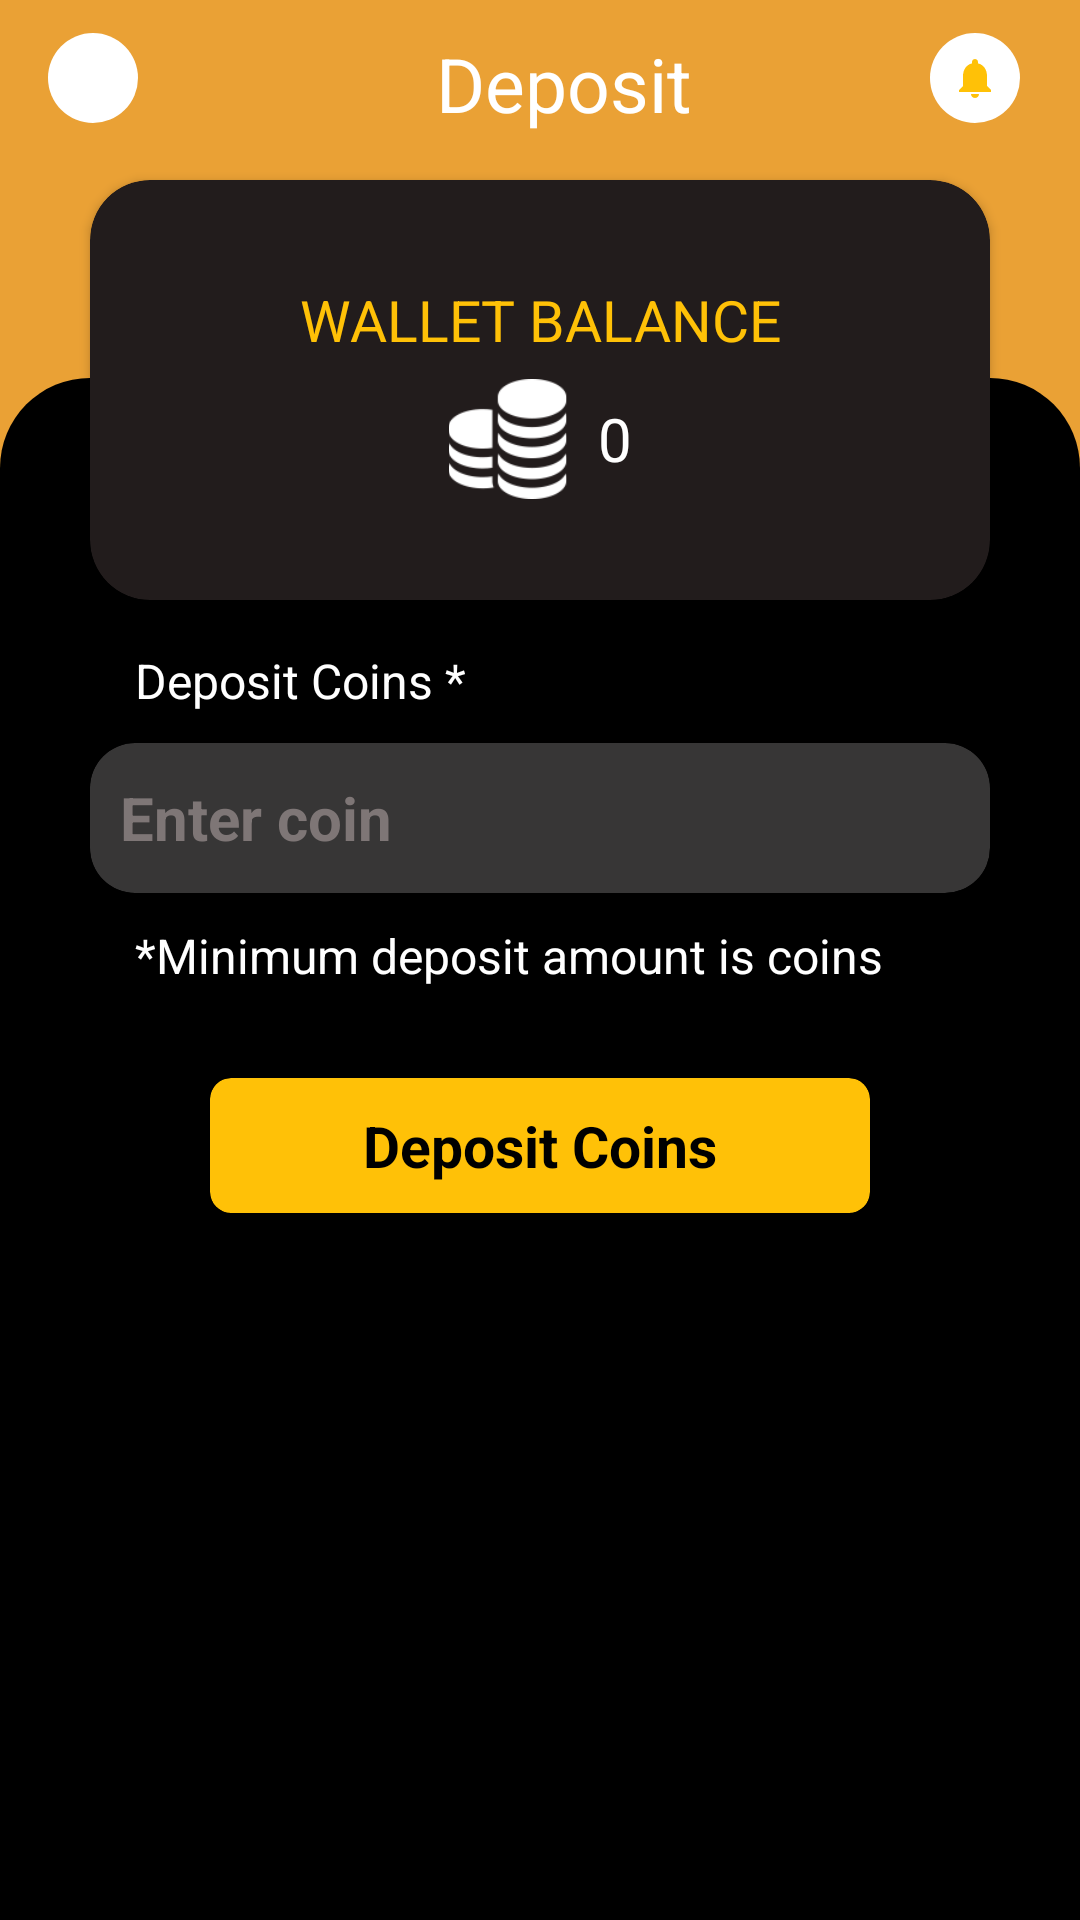

Icon bounding boxes for this 1080px×1920px phone screenshot, format detection(x1, y1, x2, y2):
notification: detection(930, 33, 1020, 123)
